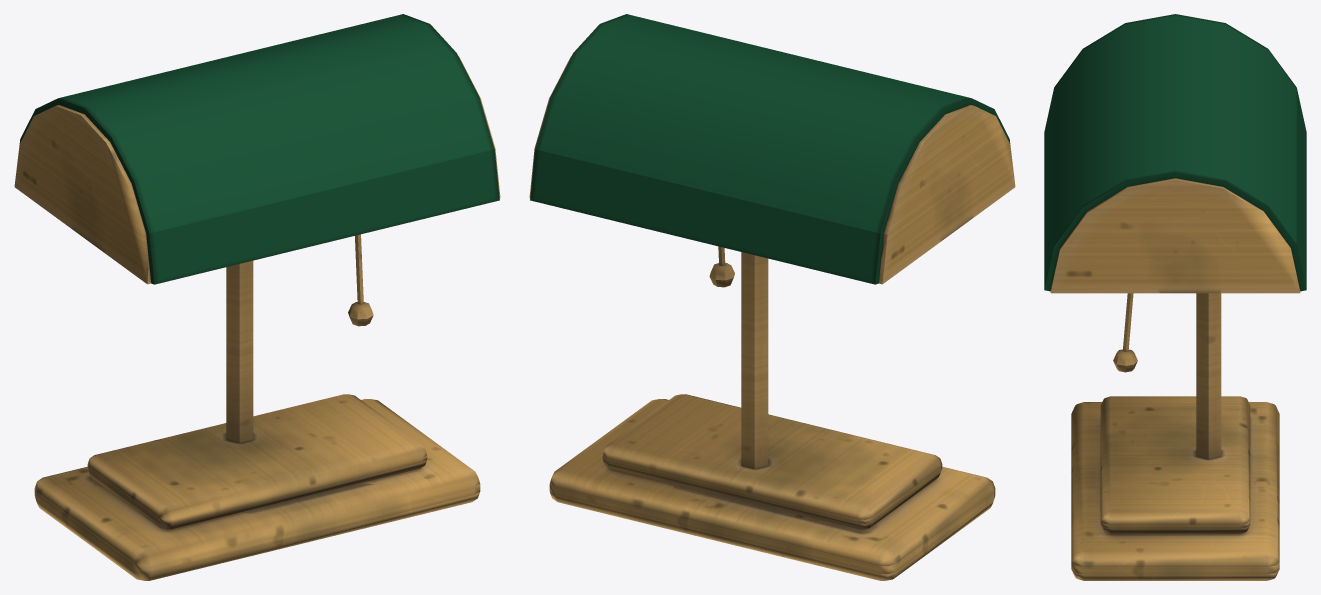
Rendered from BankerLamp.fbx.
The picture shows the model from 3 angles, left to right: view 1: azimuth 30°, elevation 25°; view 2: azimuth 150°, elevation 25°; view 3: azimuth 270°, elevation 25°; orthographic projection. The views are drawn at different scales.
Visible parts, largest first — view 1: BankerLamp_Main; view 2: BankerLamp_Main; view 3: BankerLamp_Main.
Part boxes in pixels (x1,y1,x2,y2): BankerLamp_Main: [14, 14, 500, 580]; BankerLamp_Main: [529, 14, 1015, 580]; BankerLamp_Main: [1044, 14, 1306, 580].
Size of the model in its own units: 92 by 110 by 62.94.
